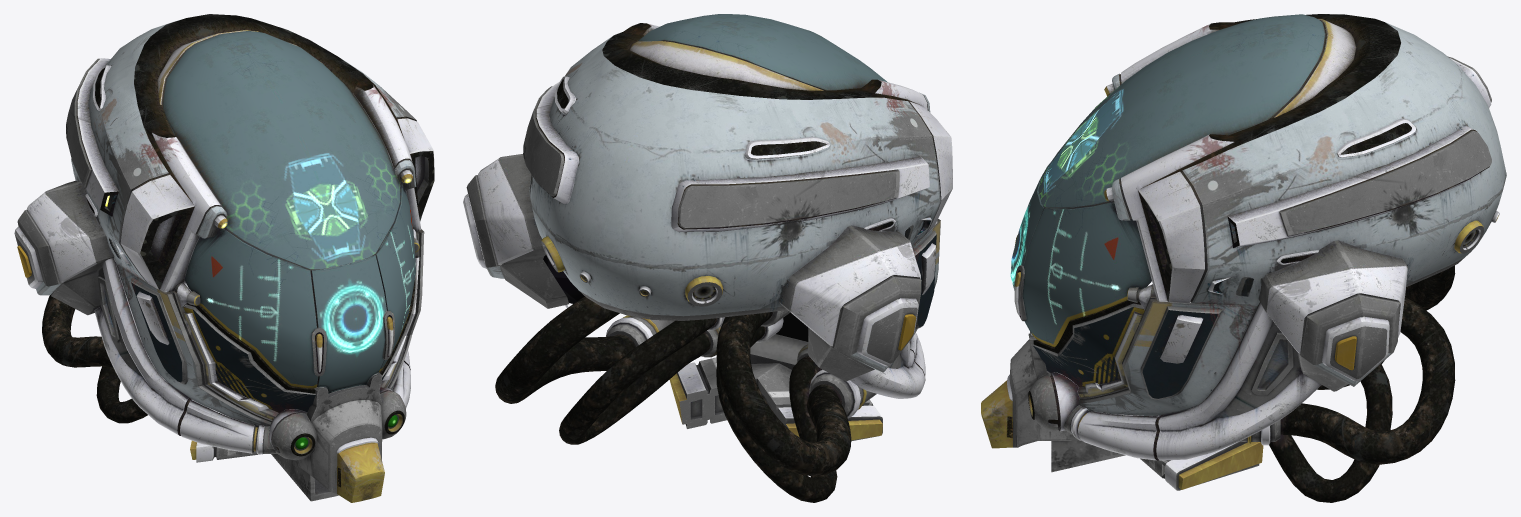
File: damaged_helmet.glb
3 renders of one model, left to right at view 1: azimuth 30°, elevation 25°; view 2: azimuth 150°, elevation 25°; view 3: azimuth 270°, elevation 25°, orthographic. The views are drawn at different scales.
Parts seen in each view (by area): view 1: node_damagedHelmet_-6514_0; view 2: node_damagedHelmet_-6514_0; view 3: node_damagedHelmet_-6514_0.
Boxes of the visible parts, x1,y1,x2,y2 form: node_damagedHelmet_-6514_0: (14, 14, 434, 502); node_damagedHelmet_-6514_0: (463, 14, 952, 502); node_damagedHelmet_-6514_0: (981, 14, 1506, 502).
Bounding box in the file's own units: 1.89 × 1.8 × 2.
Materials: 1 (1 with a texture image).
